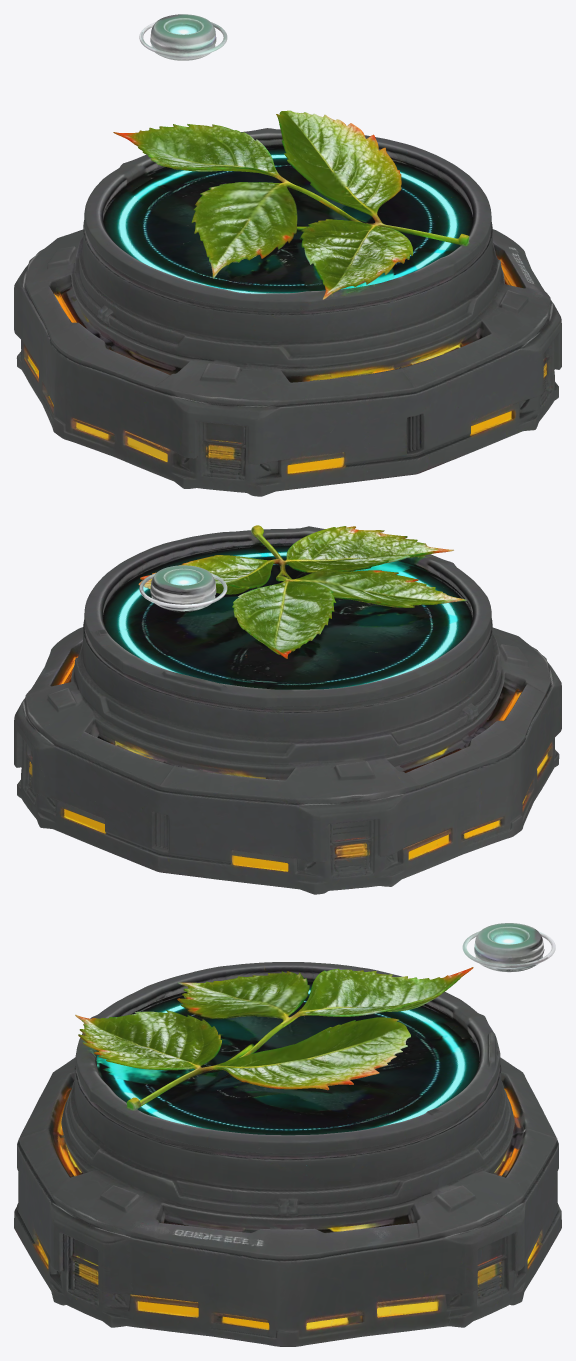
The model's file is poisonguard-plant-scanner.web.glb.
The picture shows the model from 3 angles, top to bottom: view 1: azimuth 30°, elevation 25°; view 2: azimuth 150°, elevation 25°; view 3: azimuth 270°, elevation 25°; orthographic projection. The views are drawn at different scales.
Bounding box in the file's own units: 1.9 × 1.11 × 1.86.
Materials: 1 (1 with a texture image).
